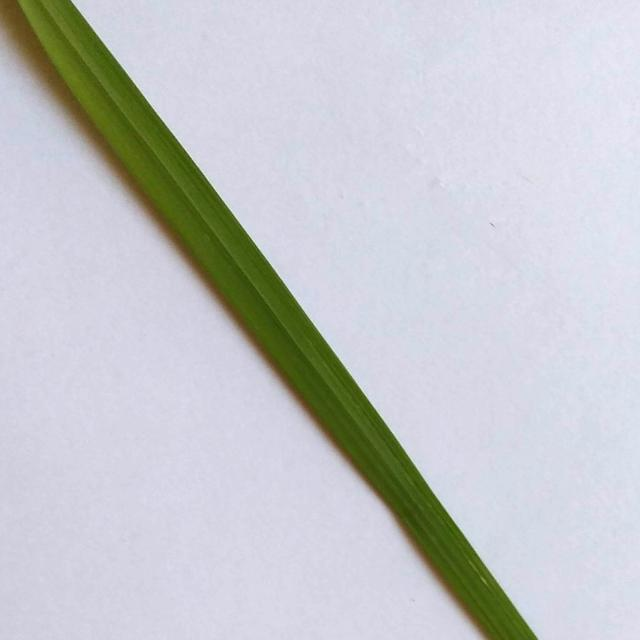Rice_Healthy: (18, 0, 538, 640)
